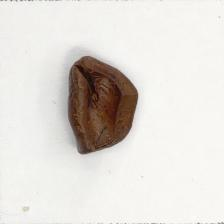NG: (67, 54, 139, 155)
